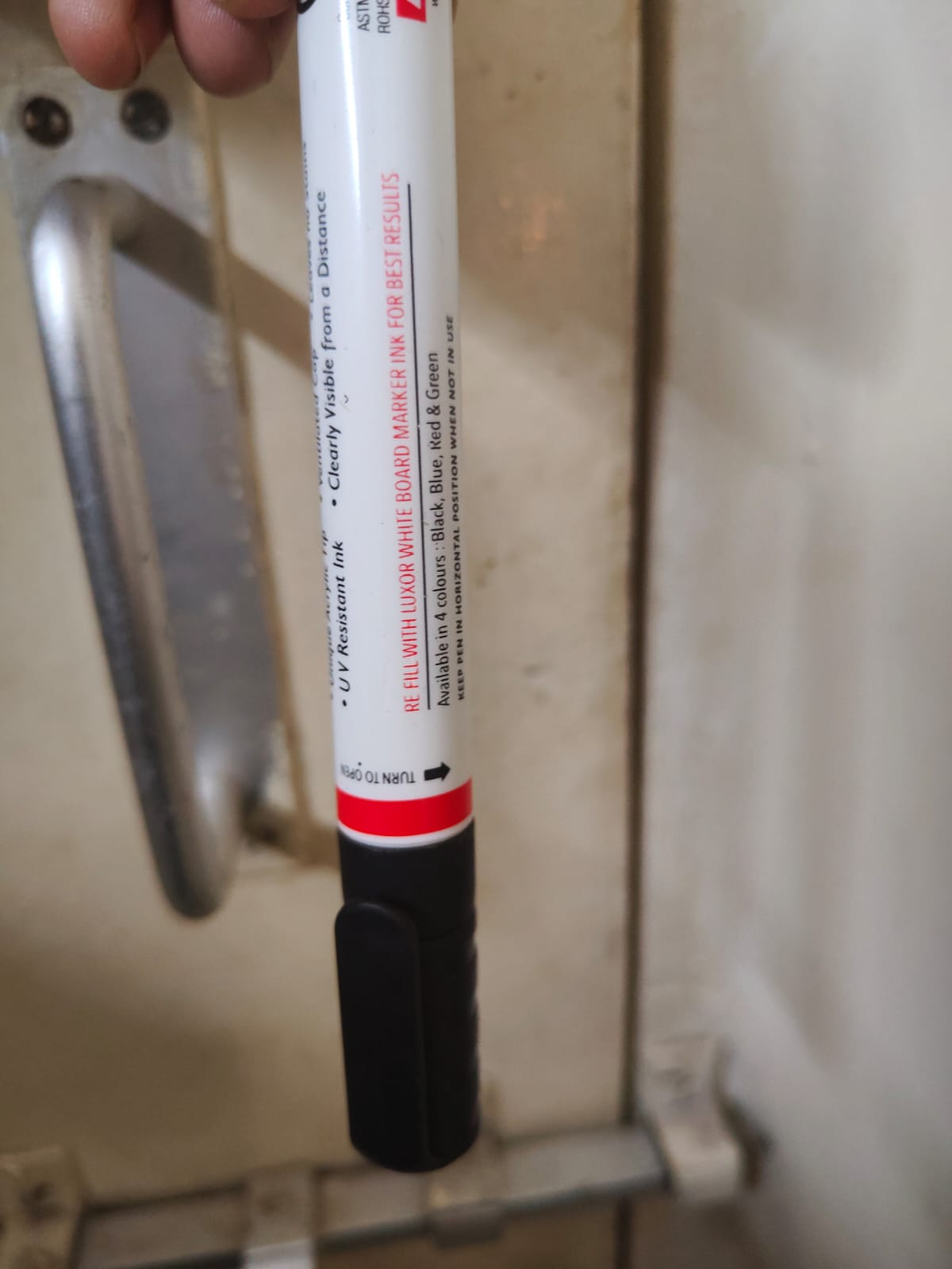case: (291, 37, 530, 1175)
